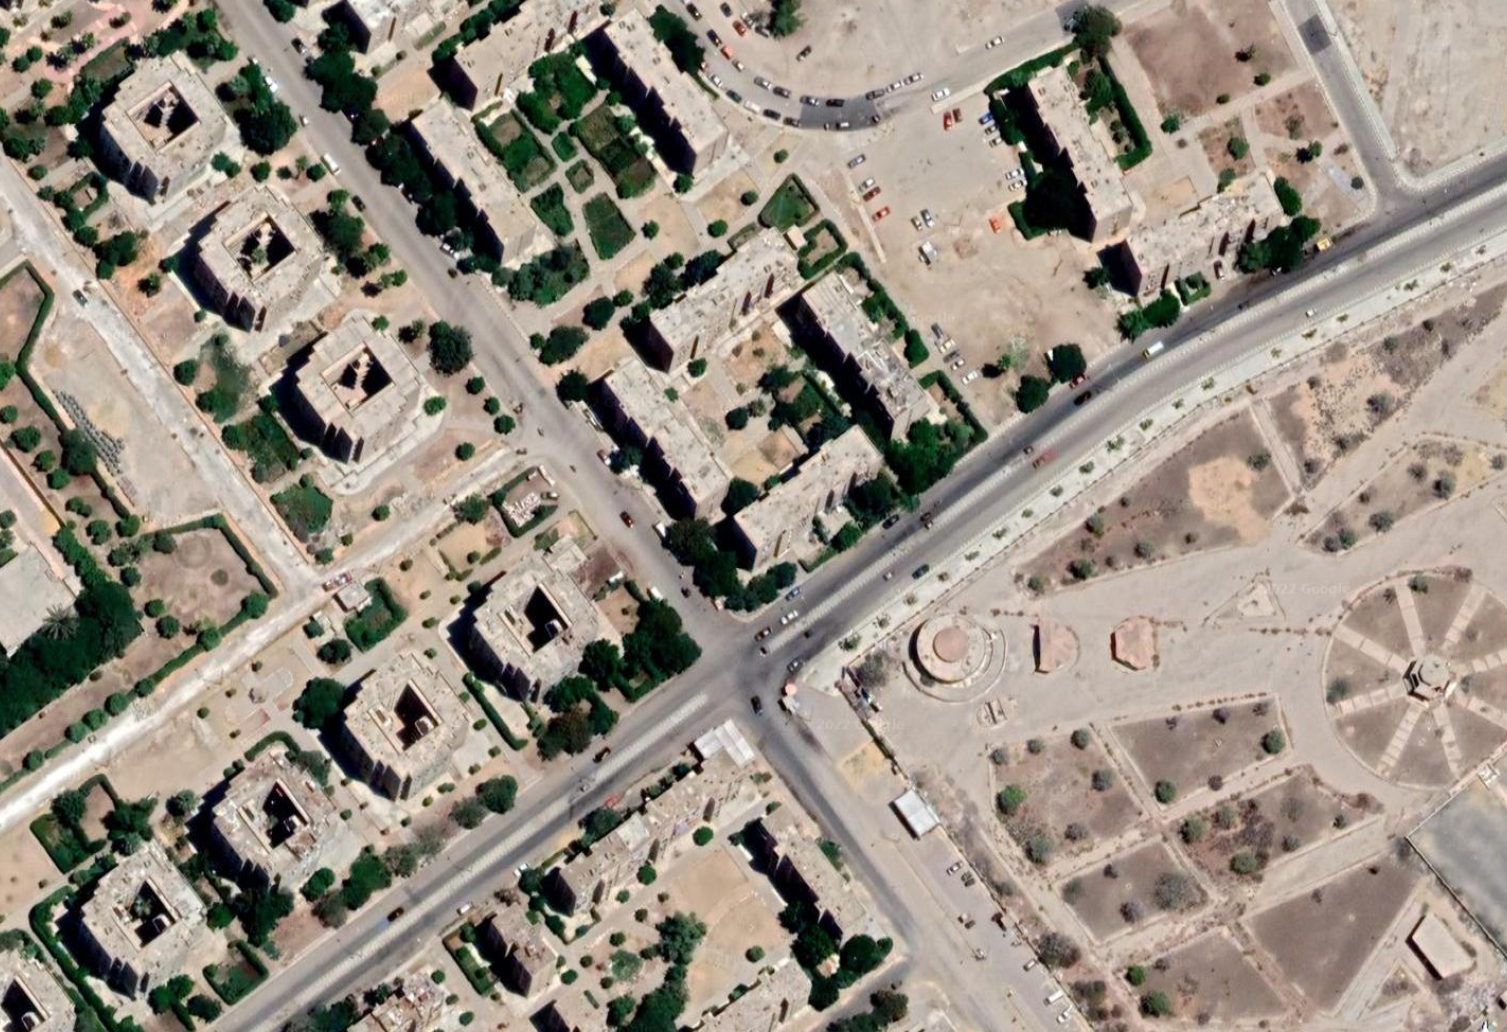car: (322, 153, 340, 178), (946, 860, 964, 879), (753, 627, 772, 644), (912, 564, 930, 581), (620, 511, 636, 529), (871, 206, 890, 222), (985, 36, 1005, 49), (781, 610, 798, 627), (786, 585, 802, 602), (882, 514, 899, 530), (595, 449, 612, 466), (1008, 179, 1029, 191), (753, 76, 772, 90), (707, 29, 721, 47), (921, 208, 934, 228), (863, 186, 879, 202), (787, 657, 804, 672), (849, 153, 866, 168), (1070, 375, 1087, 389), (774, 86, 792, 100), (931, 88, 950, 101), (904, 72, 923, 85), (1033, 452, 1048, 468), (745, 100, 762, 115), (707, 72, 723, 87), (352, 196, 366, 212), (859, 178, 876, 191), (800, 95, 821, 107), (962, 371, 979, 385), (763, 109, 780, 121), (726, 90, 742, 103), (797, 47, 810, 63), (733, 21, 745, 37), (866, 88, 885, 99), (886, 80, 904, 92), (1005, 168, 1024, 179), (731, 60, 745, 72), (950, 359, 965, 371), (783, 118, 800, 128), (910, 215, 922, 230), (944, 112, 953, 131), (826, 99, 845, 107)
